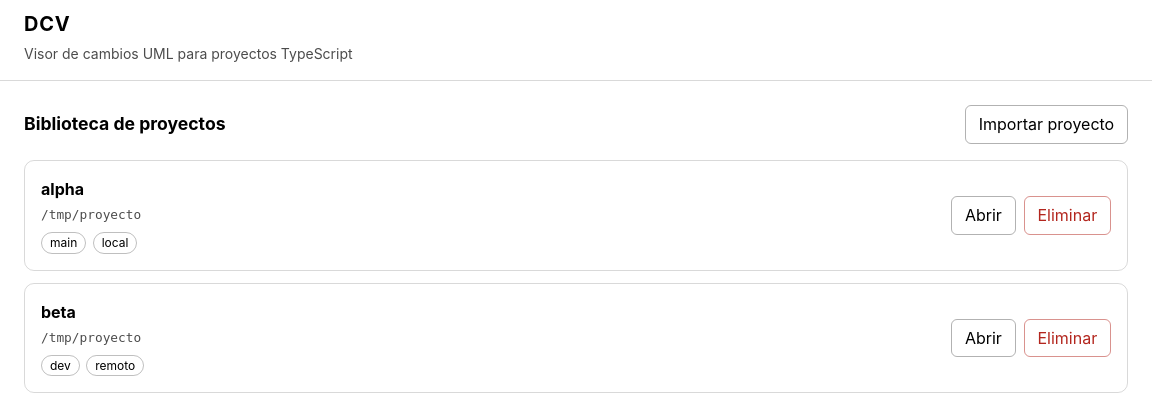
ProjectsPage › lista los proyectos y permite eliminarlos
The width and height of the screenshot is (1152, 410).
expect the heading "alpha" is shown: met, box [41, 179, 84, 199]
expect the heading "beta" is shown: met, box [41, 302, 76, 322]
Step 1. Click the button "Eliminar" in the row of "alpha" → click(1067, 215), box [1024, 196, 1111, 235]
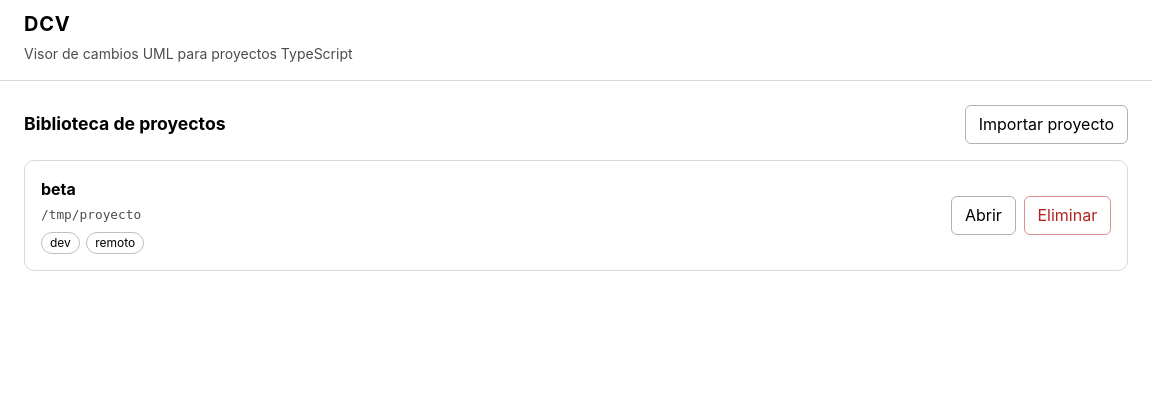
expect the heading "beta" is shown: met, box [41, 179, 76, 199]
expect the heading "alpha" is gone: met
